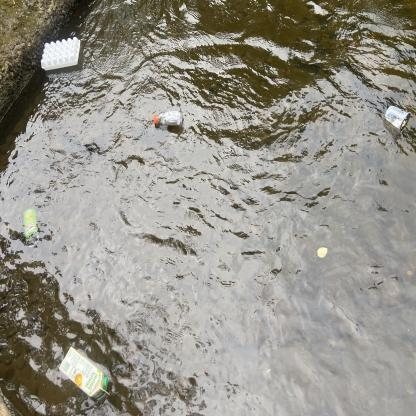trash: (56, 341, 114, 406), (39, 32, 84, 78), (382, 100, 415, 136), (149, 104, 186, 130), (19, 206, 40, 249)
